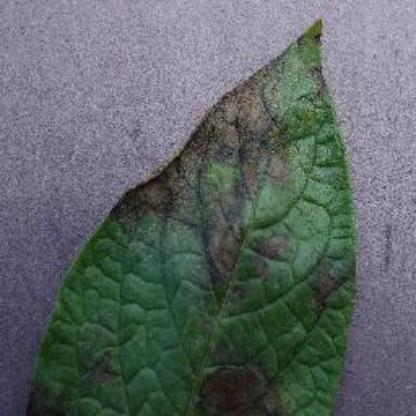Late-Blight: (23, 11, 365, 415)
